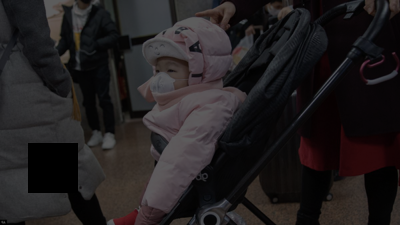with_mask: (149, 57, 188, 106)
